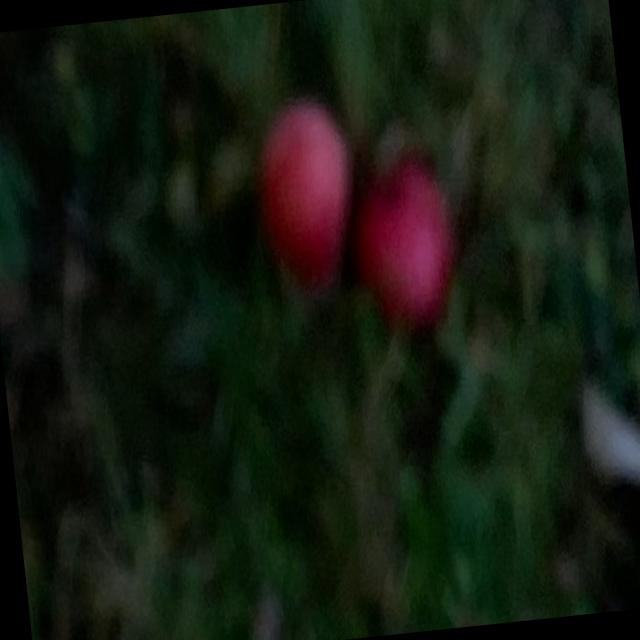Apples: (257, 95, 352, 284), (352, 162, 454, 321)
